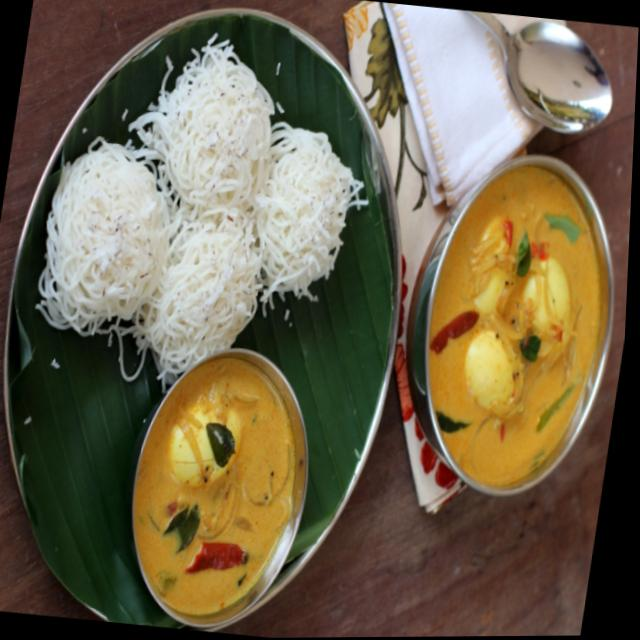EGG: (432, 172, 601, 477), (141, 359, 288, 616)
IDIYAPPAM: (45, 35, 354, 379)
